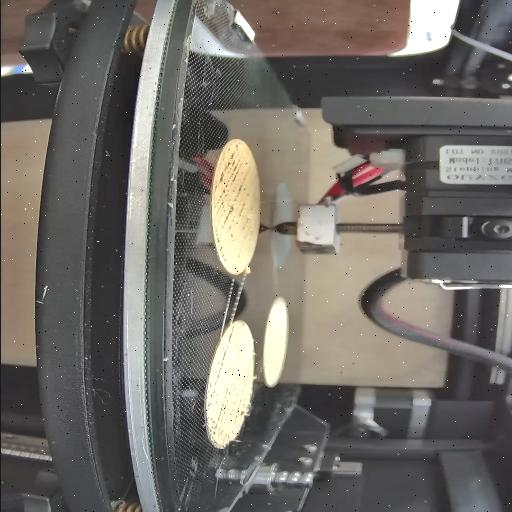under_extrusion: (214, 143, 246, 262), (208, 386, 248, 442), (208, 324, 234, 382)
